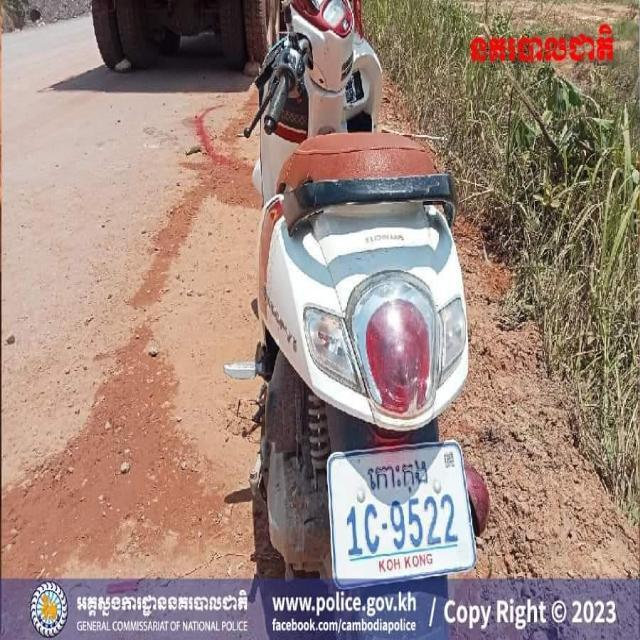Koh_Kong: (369, 459, 429, 494)
